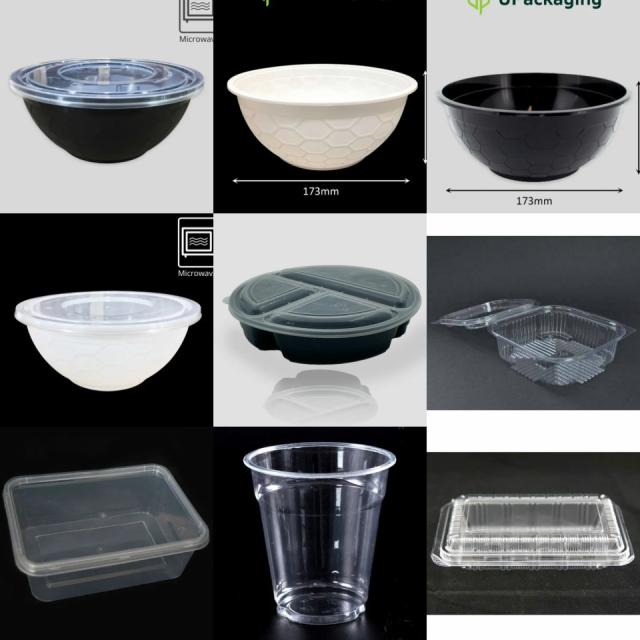Single-Use-Plastic: (4, 464, 209, 601), (244, 442, 395, 624), (439, 72, 630, 181), (228, 64, 418, 170), (10, 59, 204, 162), (228, 265, 421, 363), (15, 291, 201, 391), (432, 299, 635, 386), (431, 495, 635, 569)
